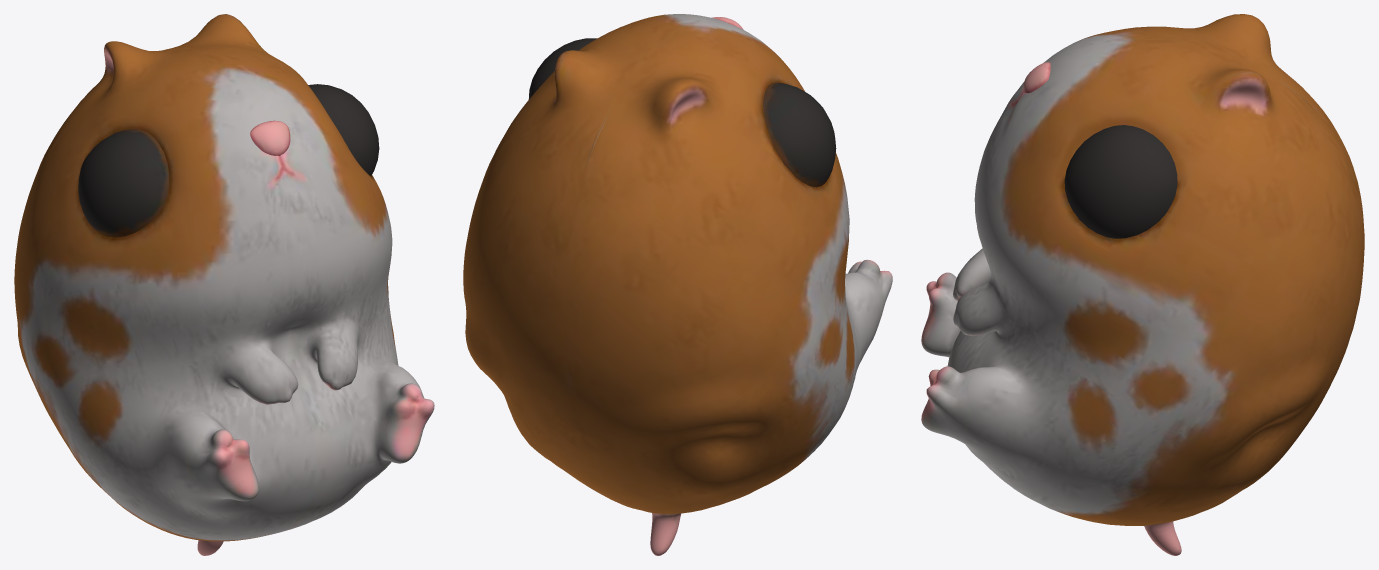
Rendered from happy_hamster.glb.
The picture shows the model from 3 angles, left to right: view 1: azimuth 30°, elevation 25°; view 2: azimuth 150°, elevation 25°; view 3: azimuth 270°, elevation 25°; orthographic projection. The views are drawn at different scales.
Visible parts, largest first — view 1: hamster_low, eyes_low, nose_low; view 2: hamster_low, eyes_low; view 3: hamster_low, eyes_low, nose_low.
Part boxes in pixels (bbox=[...]): hamster_low: bbox=[14, 14, 434, 555]; eyes_low: bbox=[78, 84, 379, 237]; nose_low: bbox=[250, 120, 290, 155]; hamster_low: bbox=[463, 14, 892, 555]; eyes_low: bbox=[528, 38, 836, 187]; hamster_low: bbox=[921, 14, 1364, 555]; eyes_low: bbox=[1064, 125, 1177, 238]; nose_low: bbox=[1023, 62, 1050, 93].
Size of the model in its own units: 0.5017 by 0.7367 by 0.5748.
1 material, 1 textured.
